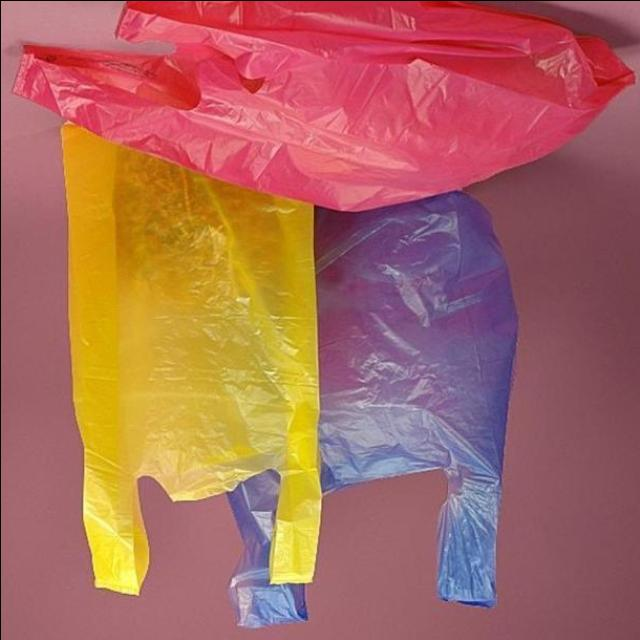plastik: (12, 0, 633, 210), (60, 124, 321, 593), (315, 192, 516, 606), (227, 471, 302, 626)
